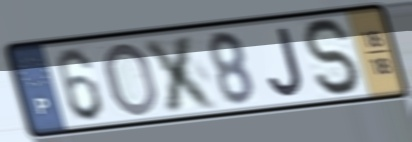6: (55, 44, 106, 125)
8: (207, 29, 256, 108)
J: (266, 25, 307, 99)
O: (103, 40, 162, 119)
S: (300, 16, 366, 99)
X: (140, 31, 223, 114)
